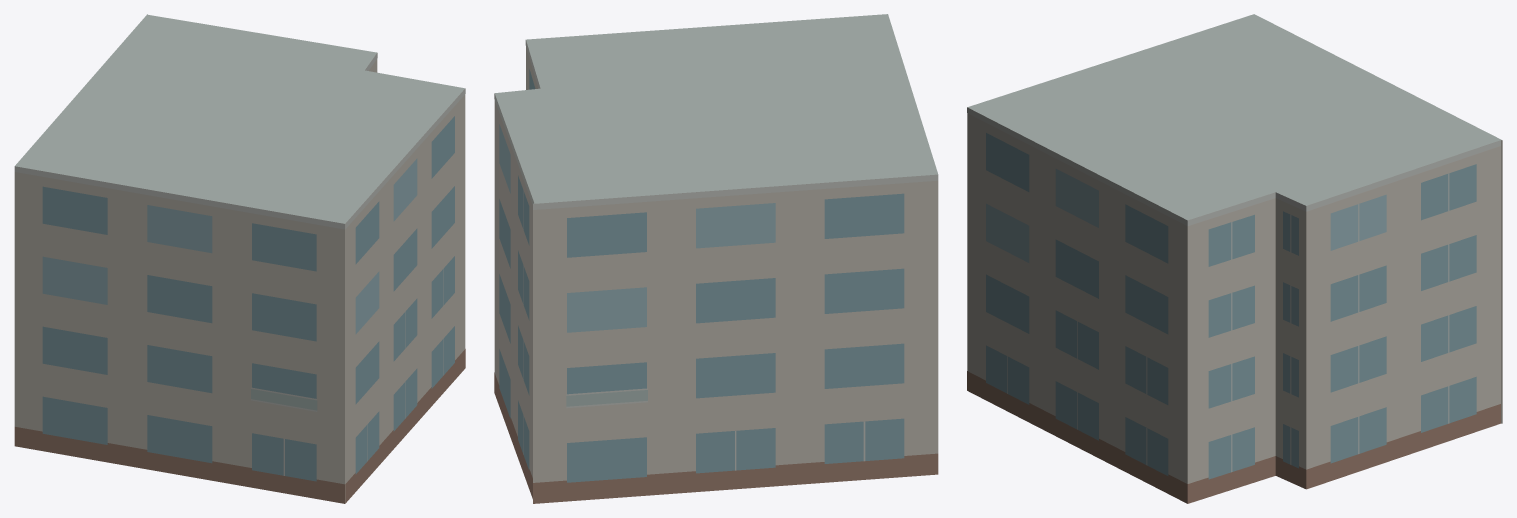
The model's file is survey-upis-32777933.glb.
3 renders of one model, left to right at view 1: azimuth 30°, elevation 25°; view 2: azimuth 150°, elevation 25°; view 3: azimuth 270°, elevation 25°, orthographic. The views are drawn at different scales.
Visible parts, largest first — view 1: survey-upis-32777933.tmp; view 2: survey-upis-32777933.tmp; view 3: survey-upis-32777933.tmp.
Boxes of the visible parts, bbox=[...] form: survey-upis-32777933.tmp: bbox=[14, 14, 465, 503]; survey-upis-32777933.tmp: bbox=[494, 14, 938, 503]; survey-upis-32777933.tmp: bbox=[967, 14, 1502, 503].
Size of the model in its own units: 18.6 by 11.9 by 20.38.
